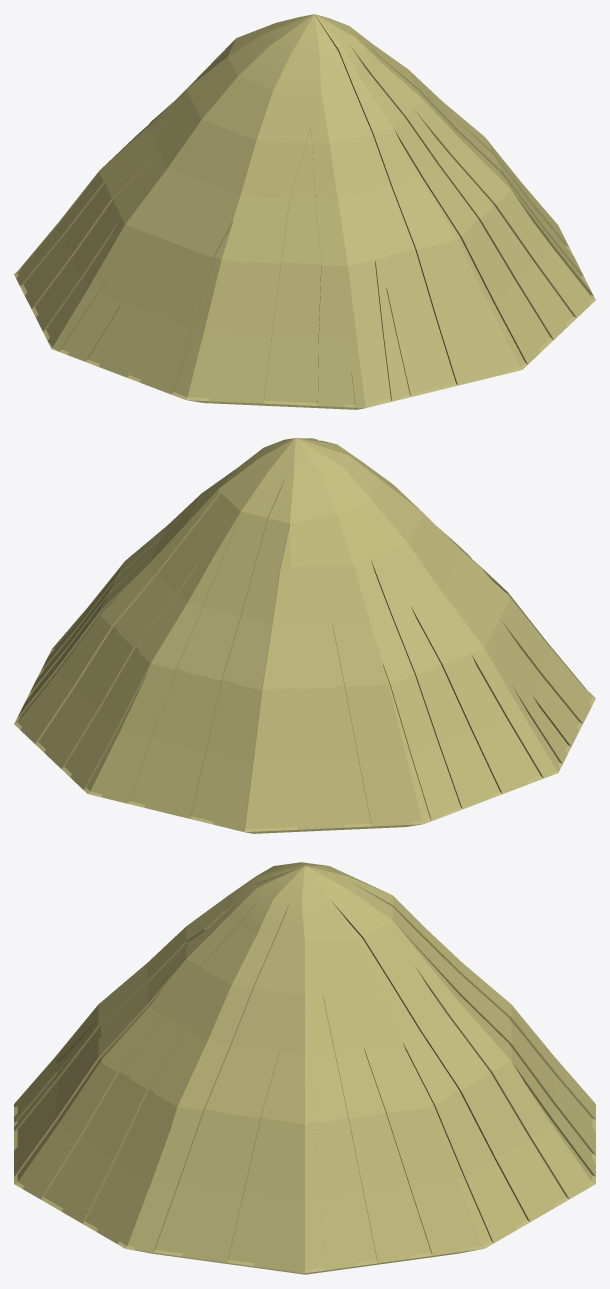
File: HayStackFBX.fbx
3 views of the same model, one above another, from view 1: azimuth 30°, elevation 25°; view 2: azimuth 150°, elevation 25°; view 3: azimuth 270°, elevation 25° (orthographic). The views are drawn at different scales.
Parts seen in each view (by area): view 1: pSphere3; view 2: pSphere3; view 3: pSphere3.
Boxes of the visible parts, x1,y1,x2,y2 form: pSphere3: (14, 14, 595, 409); pSphere3: (14, 438, 595, 833); pSphere3: (14, 862, 595, 1274).
Size of the model in its own units: 1.06 by 0.6486 by 1.01.
